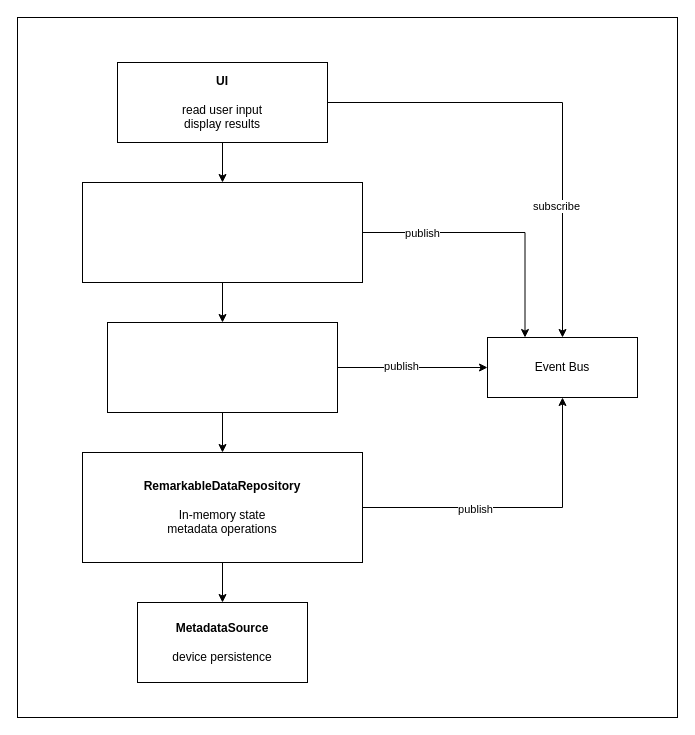
This 695x735 diagram has some shape labels left out. Each missing label, with the box of its shape:
Command command-specific application logic: (106, 322, 338, 412)
CommandDispatcher parse input construct command execute command: (82, 182, 362, 282)
